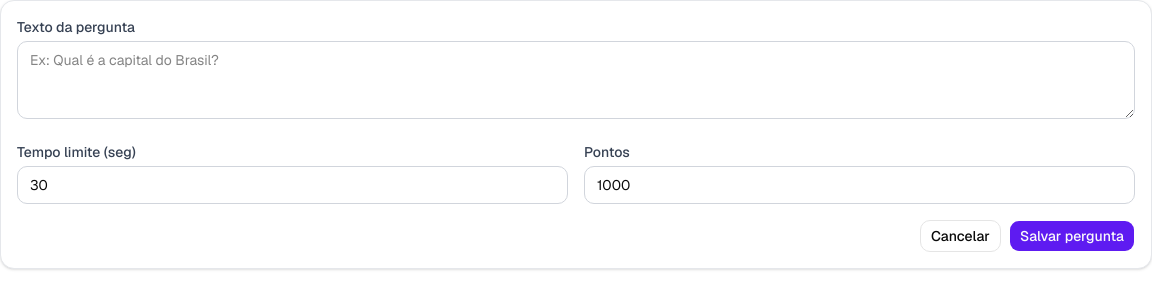
Test: QuestionForm › when timeLimitSecs is below 5 › should show validation error
Type "Pergunta válida" into the text box with test id "input-question-text" at (576,80), box [17,41,1135,119]
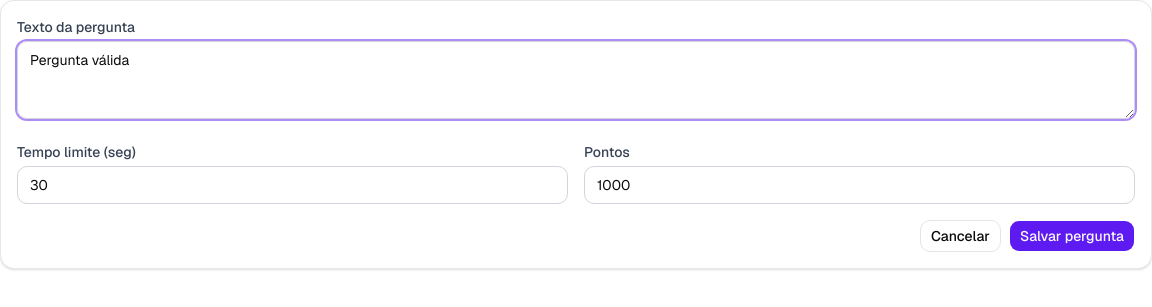
Replace the text in the number field with test id "input-question-time-limit" with "3" at (292,185), box [17,166,568,204]
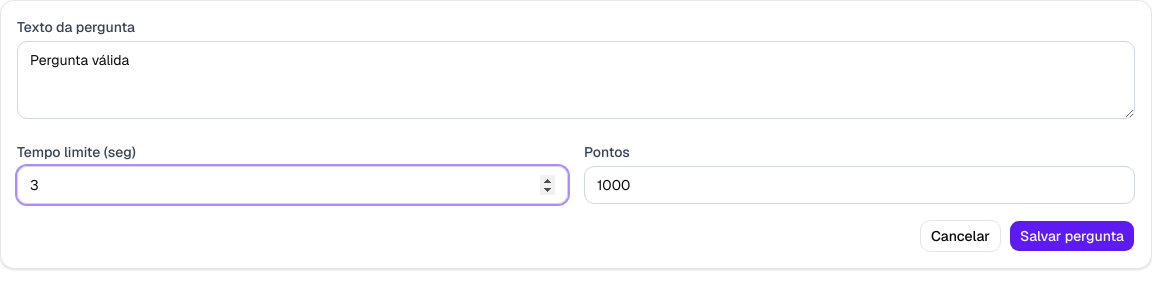
Click the button with test id "btn-submit-question" at (1072,236), box [1009,220,1135,252]
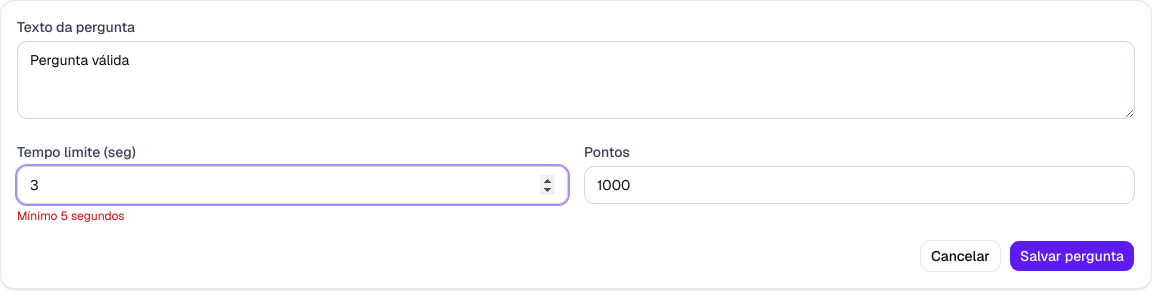
Now the text "Mínimo 5 segundos" is shown, box [17,208,125,224]
